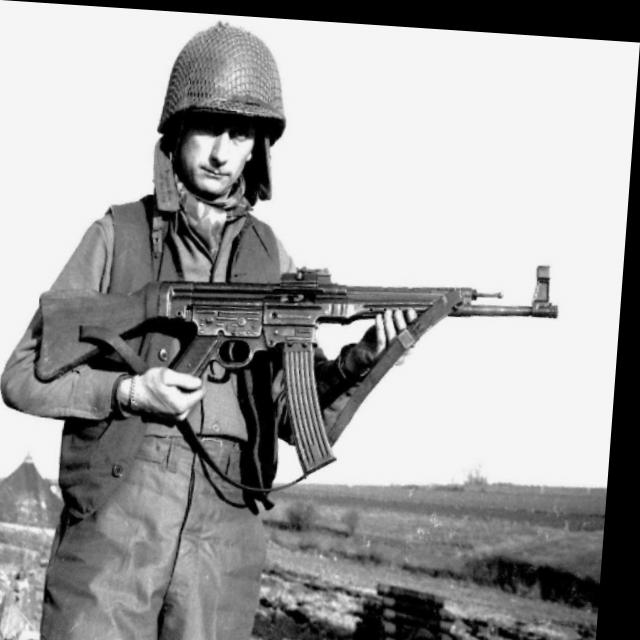other: (0, 8, 443, 640)
